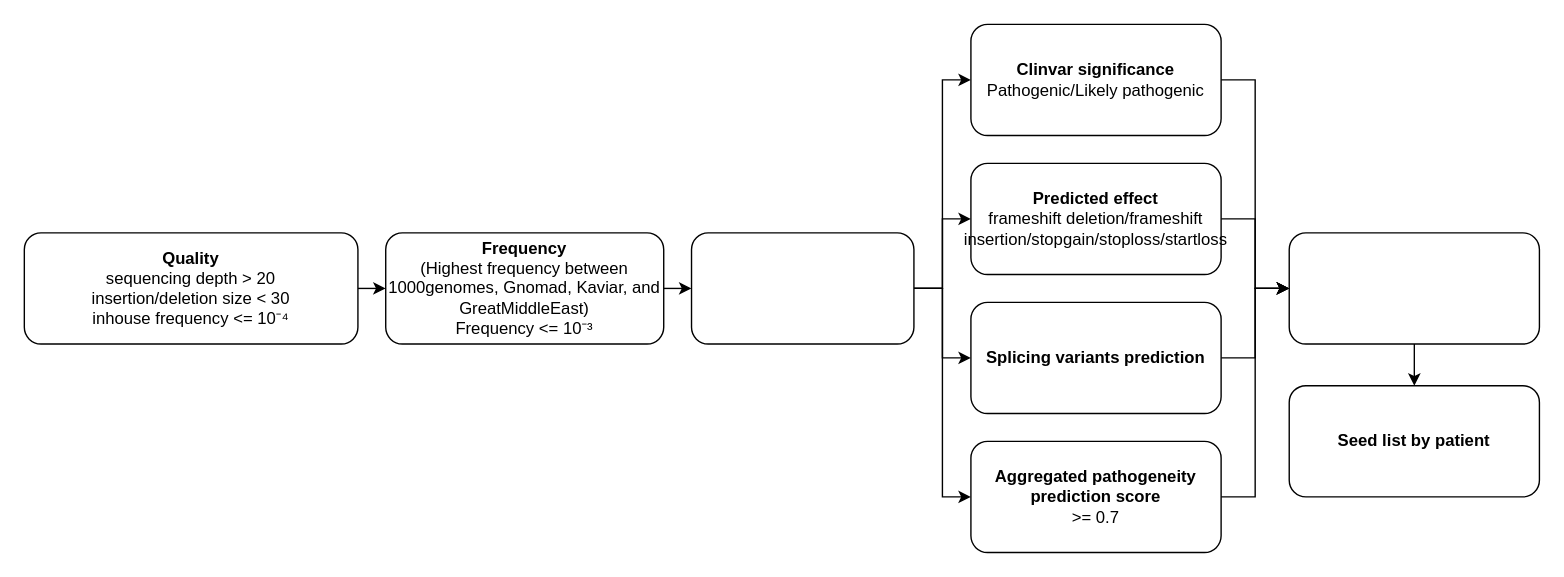
Image size: 1564x577. Some labels were removed from this diagram. Each missing label, with the box of its shape:
Gene present in the network: (1288, 231, 1539, 344)
pLi >= 0.1: (690, 231, 914, 344)
